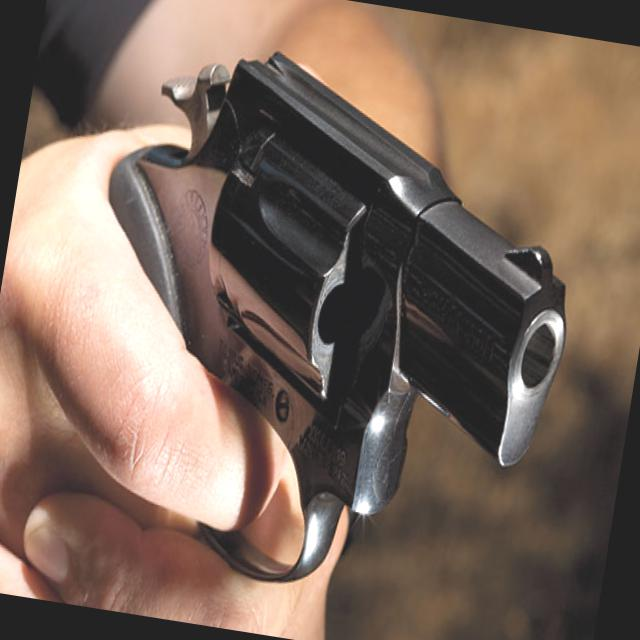handgun: (36, 16, 604, 622)
